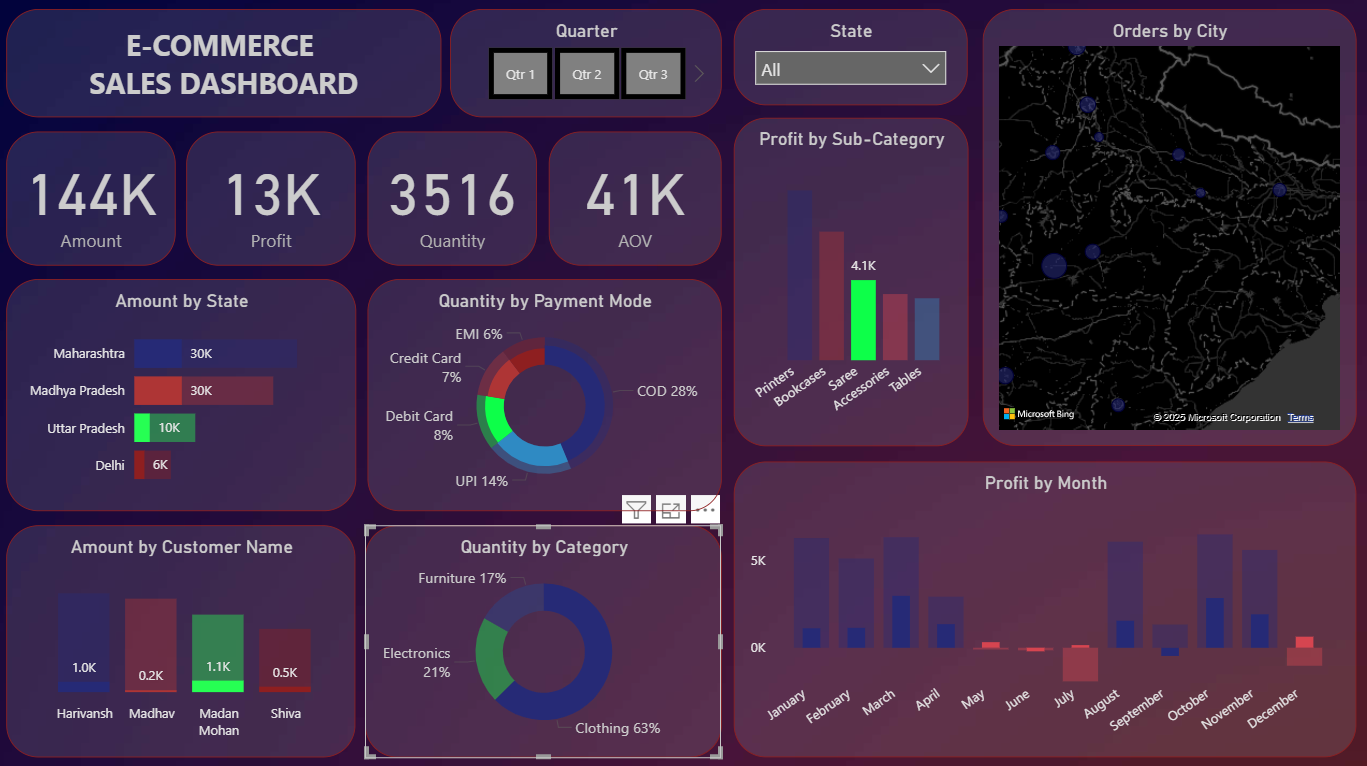

This screenshot's page, from the dashboard's own definition file:
{"tool":"powerbi","page":{"name":"Page 1","canvas":[1280,720],"ordinal":0},"visuals":[{"type":"textbox","box":[9.9,14.2,404.7,100.8],"z":0},{"type":"columnChart","fields":{"Y":["Details.Profit"],"Category":["Orders.Order Date.Variation.Date Hierarchy.Month"]},"box":[687.3,434.6,579.4,275.5],"z":1000},{"type":"columnChart","fields":{"Category":["Details.Sub-Category"],"Y":["Details.Profit"]},"box":[687.3,115,218.7,305.3],"z":2000},{"type":"donutChart","fields":{"Category":["Details.Category"],"Y":["Details.Quantity"]},"box":[343.7,494.2,332.3,215.9],"z":3000},{"type":"donutChart","fields":{"Y":["Details.Quantity"],"Category":["Details.PaymentMode"]},"box":[346.5,265.6,329.5,215.9],"z":4000},{"type":"card","fields":{"Values":["Details.Amount"]},"box":[9.9,127.8,157.6,125],"z":5000},{"type":"card","fields":{"Values":["Details.Profit"]},"box":[178.5,127.8,157.6,125],"z":6000},{"type":"card","fields":{"Values":["Details.Quantity"]},"box":[347,127.8,157.6,125],"z":7000},{"type":"card","fields":{"Values":["Details.AOV"]},"box":[515.5,127.8,160.5,125],"z":8000},{"type":"barChart","fields":{"Category":["Orders.State"],"Y":["Details.Amount"]},"box":[9.9,265.6,325.2,215.9],"z":9000},{"type":"columnChart","fields":{"Category":["Orders.Customer Name"],"Y":["Details.Amount"]},"box":[10,494.2,325,216],"z":10000},{"type":"slicer","title":"Quarter","fields":{"Values":["Orders.Order Date.Variation.Date Hierarchy.Quarter"]},"box":[423.2,14.2,252.8,100.8],"z":11000},{"type":"slicer","title":"State","fields":{"Values":["Orders.State"]},"box":[687.3,14.2,217.3,89.5],"z":12000},{"type":"map","title":"Orders by City","fields":{"Category":["Orders.City"],"Size":["Orders.Order ID"]},"box":[918.8,14.2,347.9,406.2],"z":13000}]}

Visuals, with their boxes in screenshot pixels (x1, y1, x2, y2), scaled from the page's 1280x720 canvas onto the 1367x766 screenshot:
textbox: (11,15,443,122)
columnChart - Details.Profit x Orders.Order Date.Variation.Date Hierarchy.Month: (734,462,1353,755)
columnChart - Details.Sub-Category x Details.Profit: (734,122,968,447)
donutChart - Details.Category x Details.Quantity: (367,526,722,755)
donutChart - Details.Quantity x Details.PaymentMode: (370,283,722,512)
card - Details.Amount: (11,136,179,269)
card - Details.Profit: (191,136,359,269)
card - Details.Quantity: (371,136,539,269)
card - Details.AOV: (551,136,722,269)
barChart - Orders.State x Details.Amount: (11,283,358,512)
columnChart - Orders.Customer Name x Details.Amount: (11,526,358,756)
"Quarter" slicer: (452,15,722,122)
"State" slicer: (734,15,966,110)
"Orders by City" map: (981,15,1353,447)
